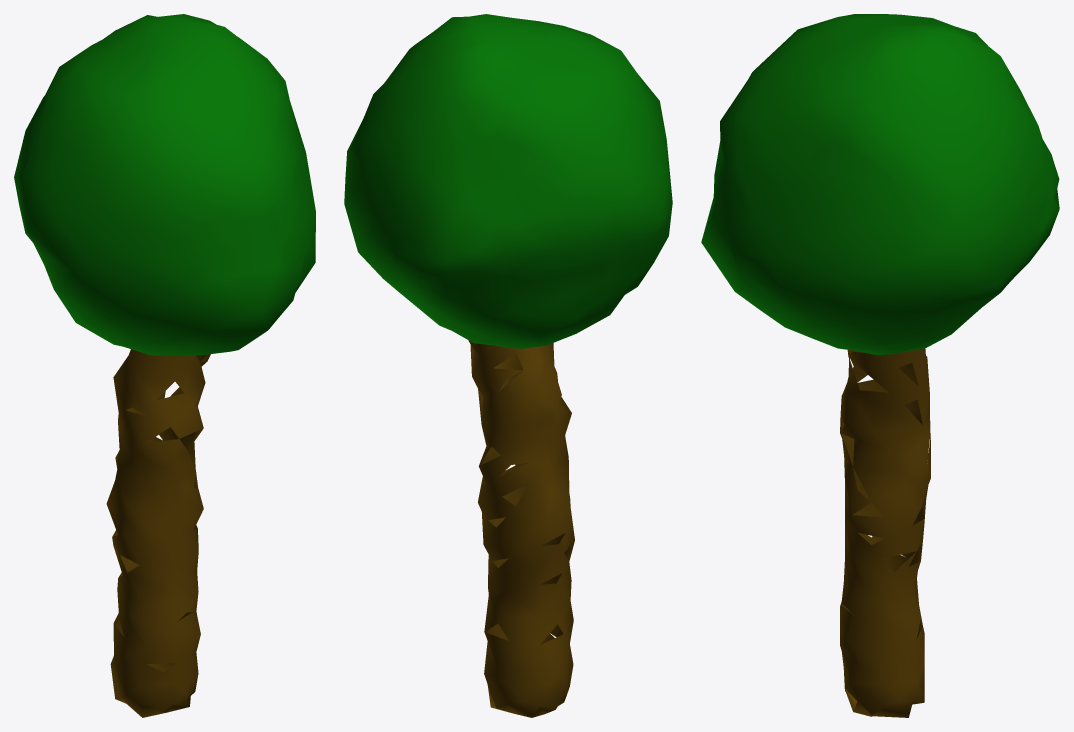
File: SmoothTree.fbx
3 views of the same model, side by side, from view 1: azimuth 30°, elevation 25°; view 2: azimuth 150°, elevation 25°; view 3: azimuth 270°, elevation 25° (orthographic). The views are drawn at different scales.
Visible parts, largest first — view 1: pSphere1, pCube1; view 2: pSphere1, pCube1; view 3: pSphere1, pCube1.
Boxes of the visible parts, x1,y1,x2,y2 form: pSphere1: [14, 14, 315, 355]; pCube1: [106, 349, 210, 717]; pSphere1: [344, 14, 672, 348]; pCube1: [468, 340, 574, 717]; pSphere1: [701, 14, 1059, 355]; pCube1: [840, 348, 930, 717].
Bounding box in the file's own units: 4.35 × 9.65 × 4.48.
